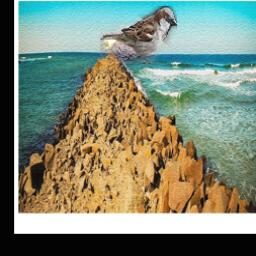Sparrow: (100, 6, 177, 64)
